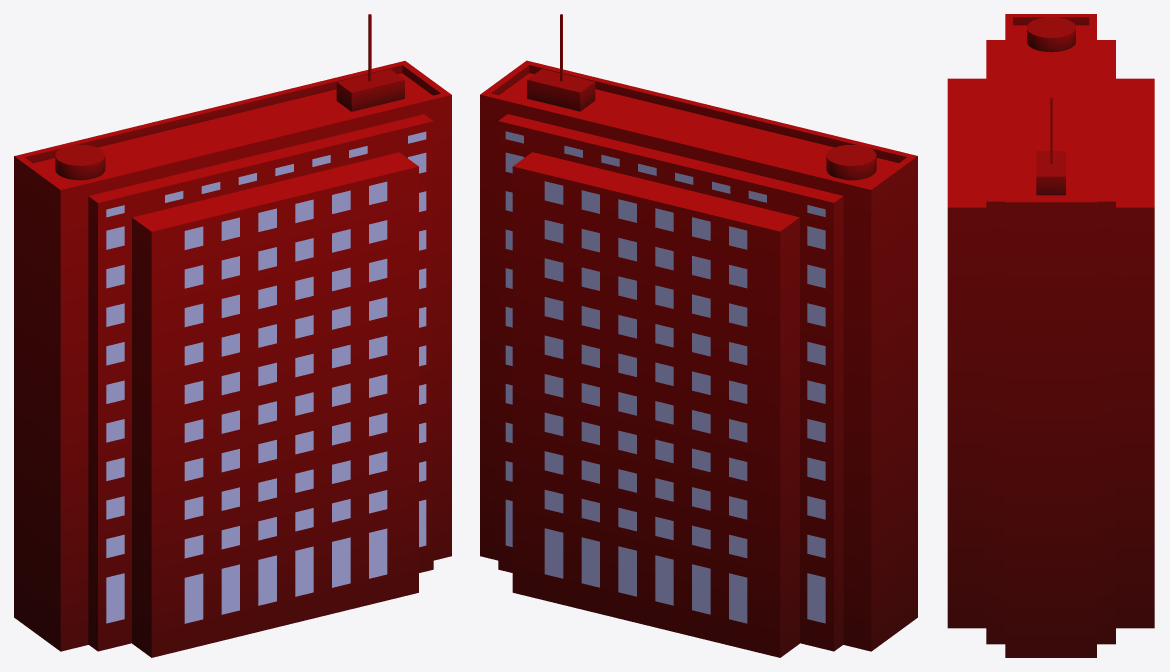
File: buildings-industrial-officebuilding_v3.fbx
3 renders of one model, left to right at view 1: azimuth 30°, elevation 25°; view 2: azimuth 150°, elevation 25°; view 3: azimuth 270°, elevation 25°, orthographic.
Visible parts, largest first — view 1: OfficeBuilding_v3_base, OfficeBuilding_v3_windowRefl; view 2: OfficeBuilding_v3_base, OfficeBuilding_v3_windowRefl; view 3: OfficeBuilding_v3_base.
Part boxes in pixels (box(x1,y1,x2,y2)): OfficeBuilding_v3_base: box(14, 14, 451, 657); OfficeBuilding_v3_windowRefl: box(106, 131, 426, 623); OfficeBuilding_v3_base: box(480, 14, 917, 657); OfficeBuilding_v3_windowRefl: box(505, 131, 825, 623); OfficeBuilding_v3_base: box(947, 14, 1154, 657).
Bounding box in the file's own units: 23.36 × 30.74 × 10.98.
